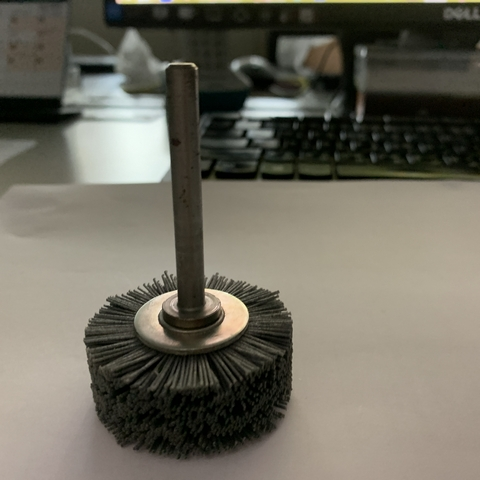Wheel Brush: (86, 49, 322, 451), (80, 59, 310, 441), (93, 52, 291, 466), (78, 93, 298, 463)
